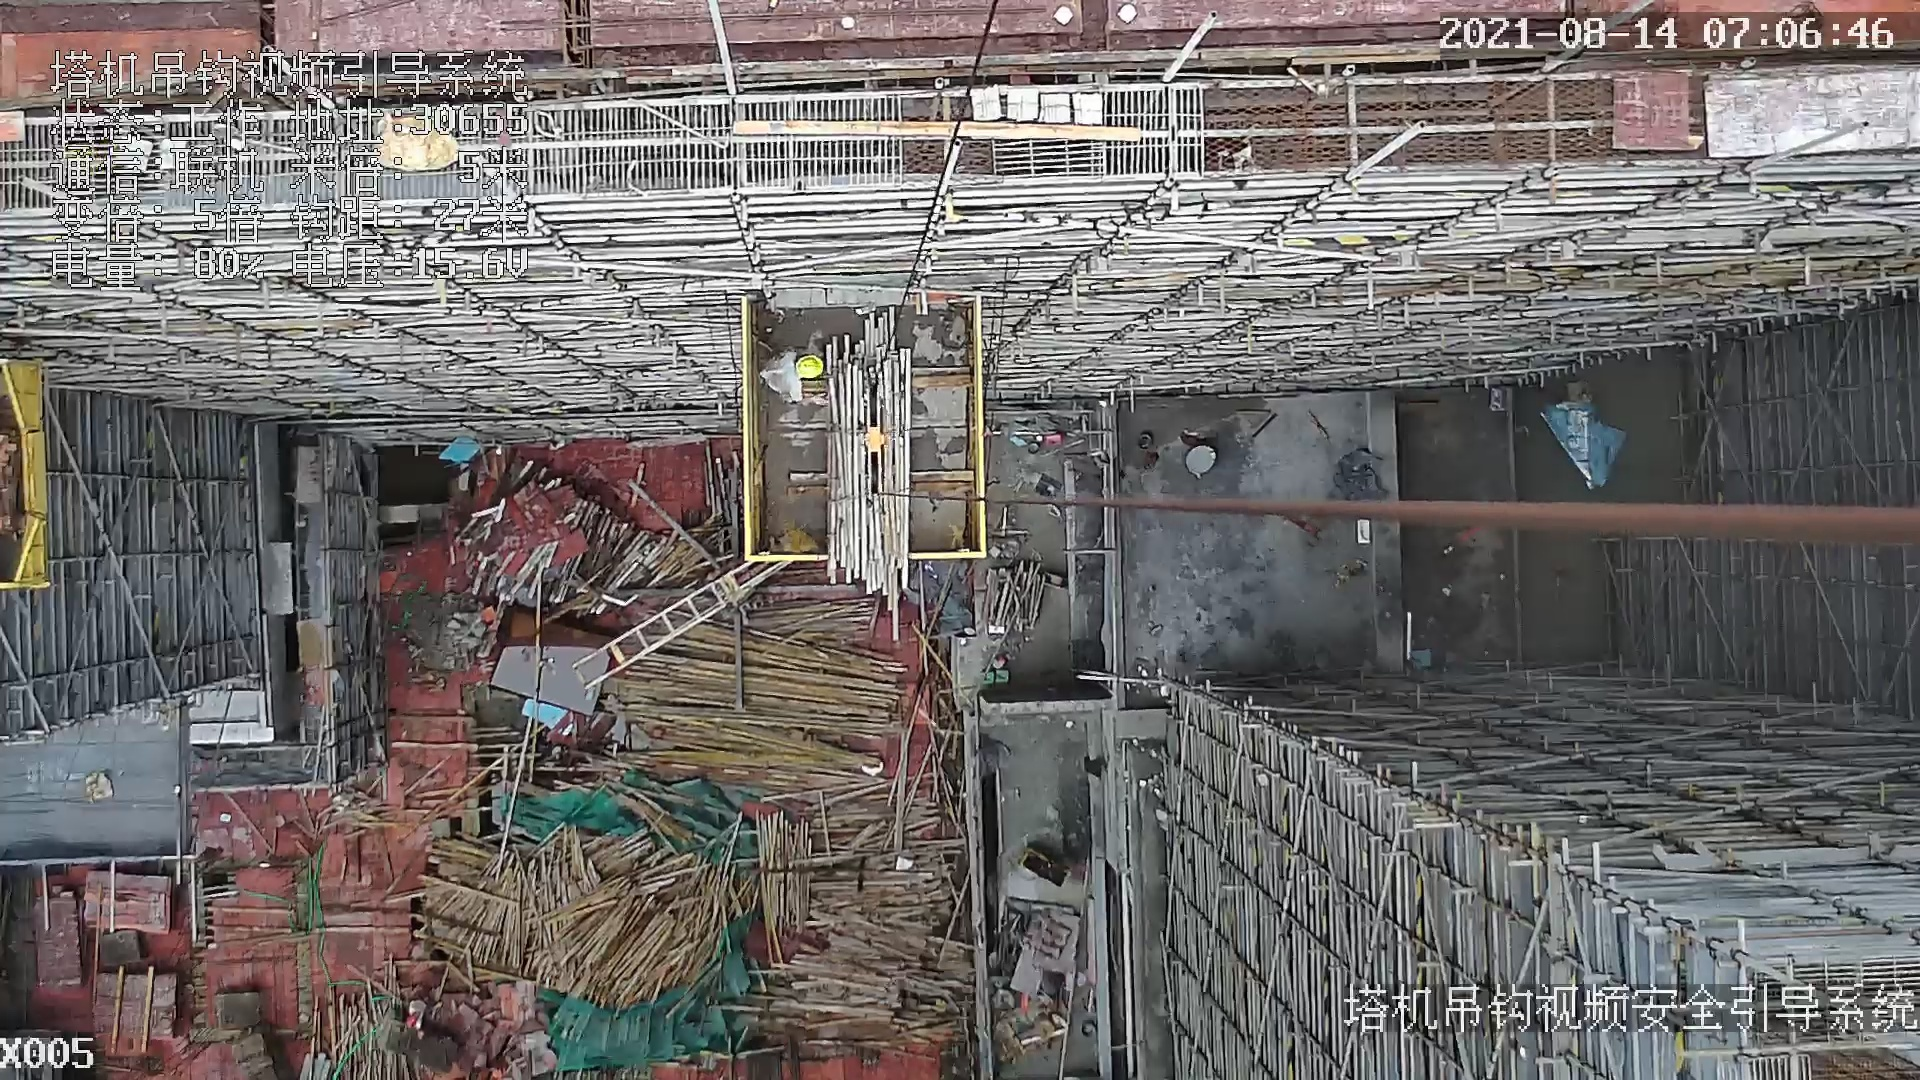helmet: (794, 354, 824, 380)
hook: (854, 376, 896, 513)
person: (755, 345, 823, 409)
